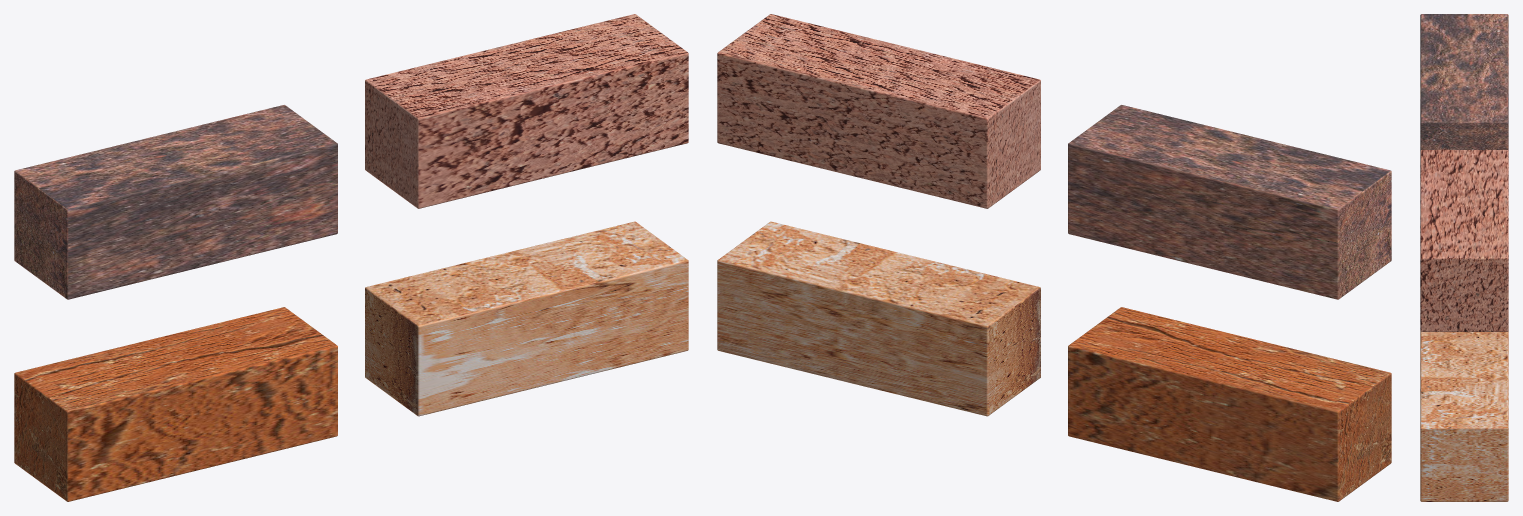
The model's file is bricks.glb.
3 views of the same model, side by side, from view 1: azimuth 30°, elevation 25°; view 2: azimuth 150°, elevation 25°; view 3: azimuth 270°, elevation 25° (orthographic). The views are drawn at different scales.
Parts seen in each view (by area): view 1: Cube.002, Cube, Cube.001, Cube.003; view 2: Cube.001, Cube.002, Cube, Cube.003; view 3: Cube.003, Cube.002, Cube.001.
Boxes of the visible parts, x1,y1,x2,y2 form: Cube.002: (365,221,688,416); Cube: (14,307,337,501); Cube.001: (14,105,337,299); Cube.003: (365,14,688,208); Cube.001: (1068,105,1391,299); Cube.002: (717,221,1040,416); Cube: (1068,307,1391,501); Cube.003: (717,14,1040,208); Cube.003: (1420,150,1508,331); Cube.002: (1420,331,1508,501); Cube.001: (1420,14,1508,150).
Bounding box in the file's own units: 12.58 × 5.77 × 1.89.
Materials: 4 (4 with a texture image).
